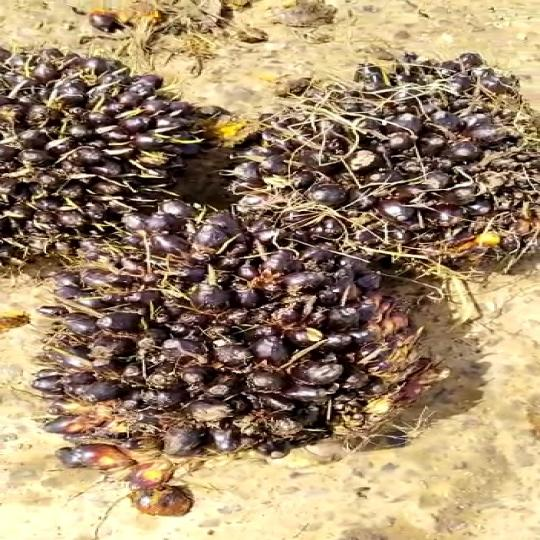mentah: (30, 203, 427, 467), (242, 53, 540, 269), (0, 32, 160, 267)
